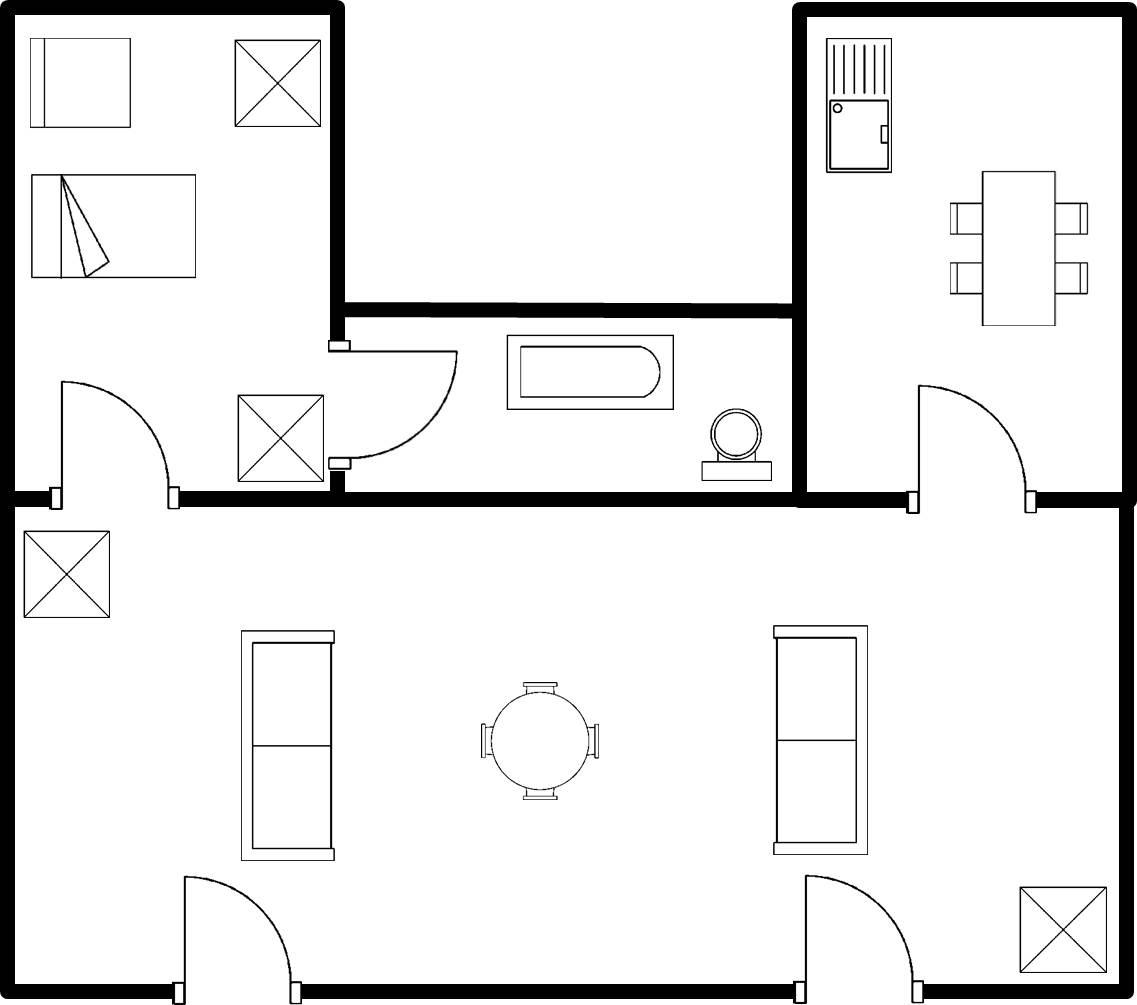bed: (22, 165, 202, 286)
dining_table: (941, 163, 1095, 332)
round_table: (469, 671, 612, 807)
sink: (818, 29, 900, 178)
sofa: (228, 619, 339, 870), (763, 616, 874, 866)
toilet: (694, 403, 780, 484)
tub: (499, 328, 679, 416)
